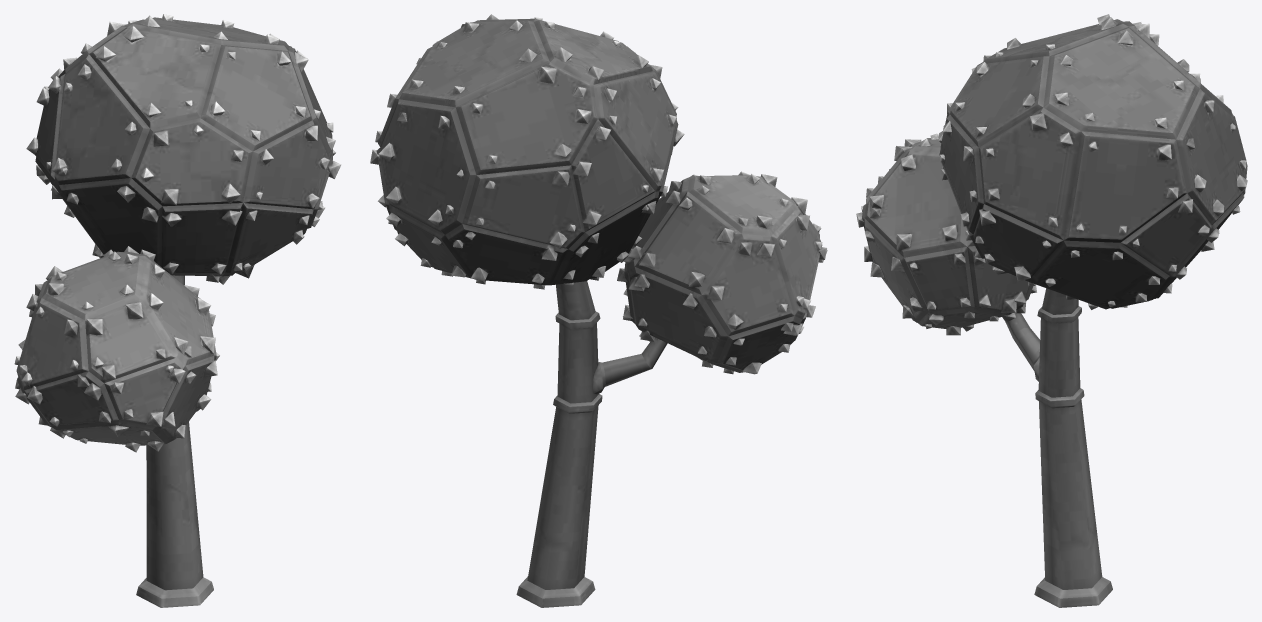
Rendered from obj_tree03_alt.gltf.
3 renders of one model, left to right at view 1: azimuth 30°, elevation 25°; view 2: azimuth 150°, elevation 25°; view 3: azimuth 270°, elevation 25°, orthographic.
Parts seen in each view (by area): view 1: obj_tree03_alt; view 2: obj_tree03_alt; view 3: obj_tree03_alt.
Part boxes in pixels (bbox=[...]): obj_tree03_alt: bbox=[14, 14, 341, 607]; obj_tree03_alt: bbox=[370, 14, 827, 607]; obj_tree03_alt: bbox=[856, 14, 1247, 607].
Size of what is drawn, in the model's own units: 3.81 by 5.78 by 3.64.
1 material, 1 textured.
